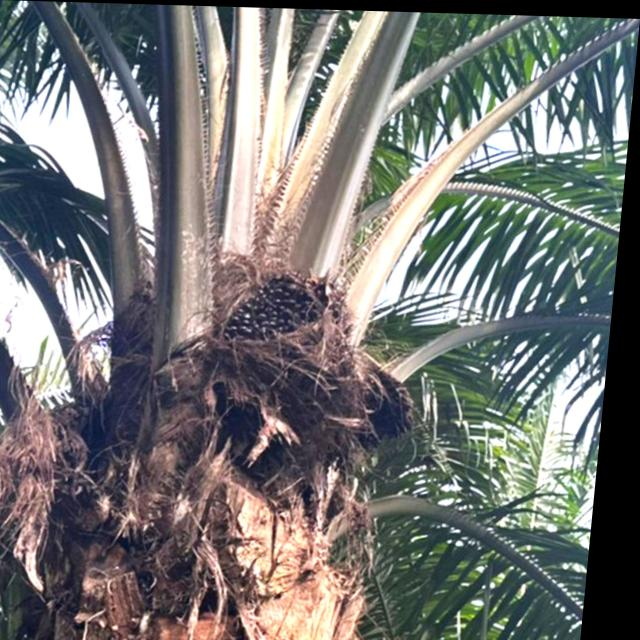ripe: (215, 253, 382, 369)
